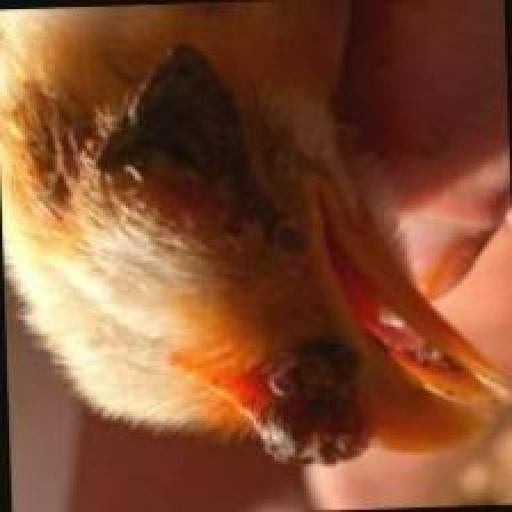disease: (84, 40, 393, 479)
